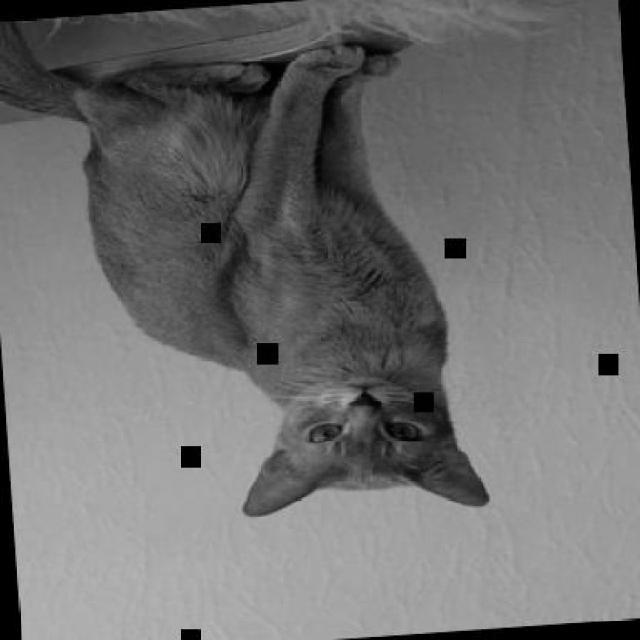Cat: (0, 0, 494, 542)
